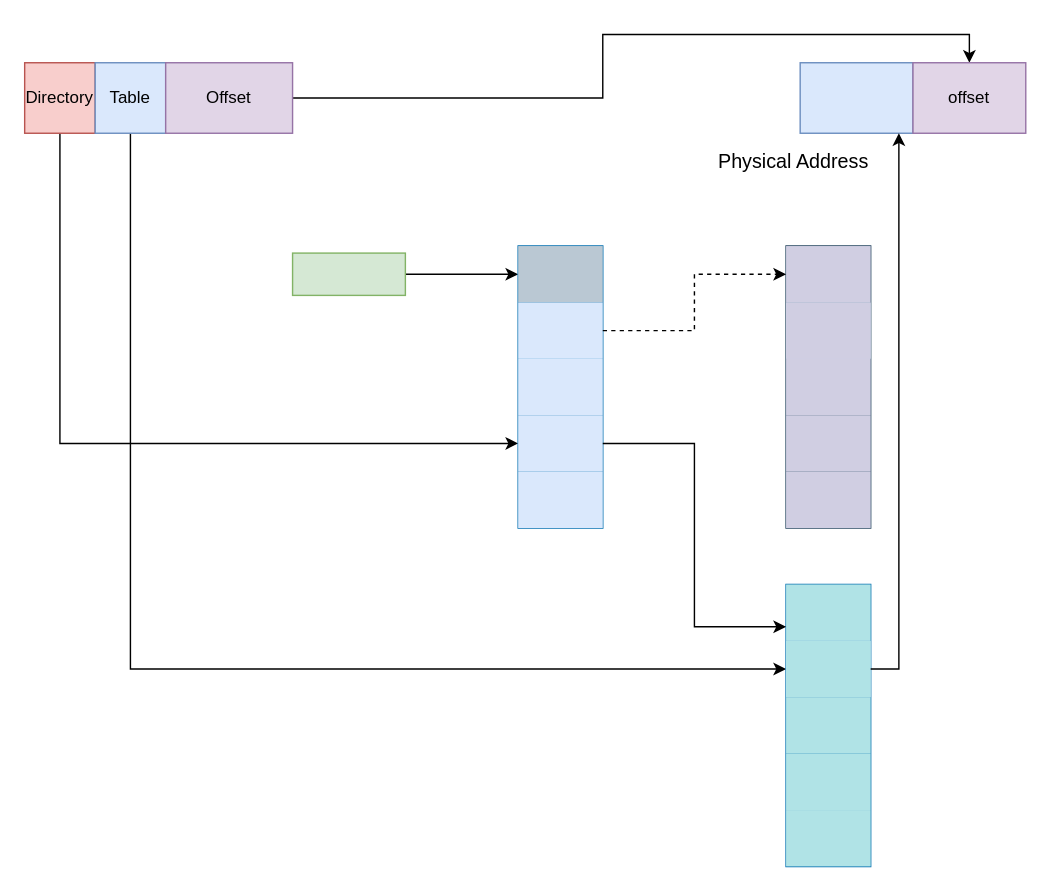
This 1050x891 diagram has some shape labels left out. The centre of each missing label's shape, as x and y in pixels:
Block number: pixel 856 97
PDPR: pixel 348 273
